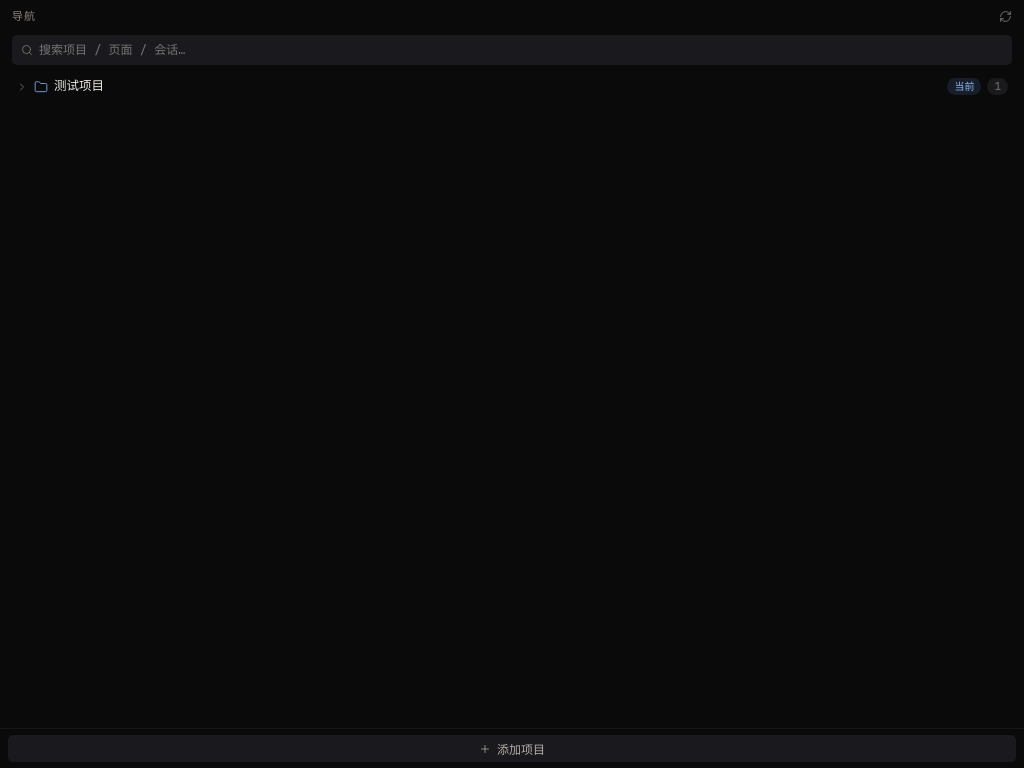
Test: 活跃会话行构成 › usage 缺省 → 百分比显示不可用态 '--'
Click the element with test id "nav-row-project" at (79,86), box [8, 72, 1016, 100]
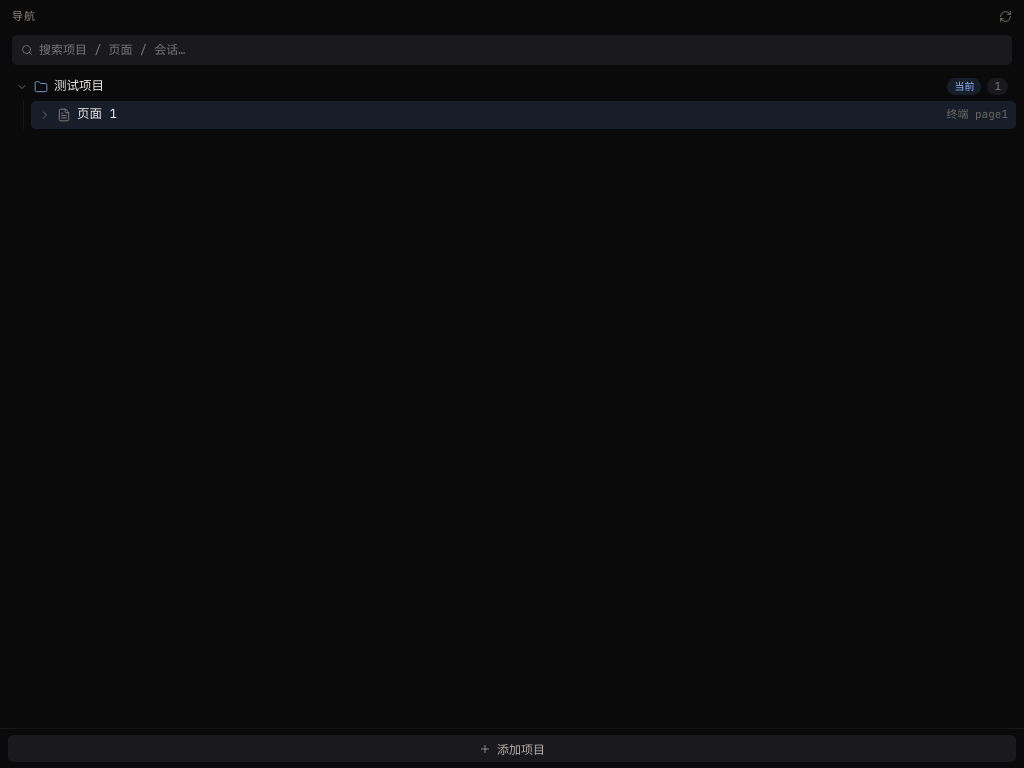
Click the element with test id "nav-row-page" at (524,114), box [31, 100, 1016, 128]
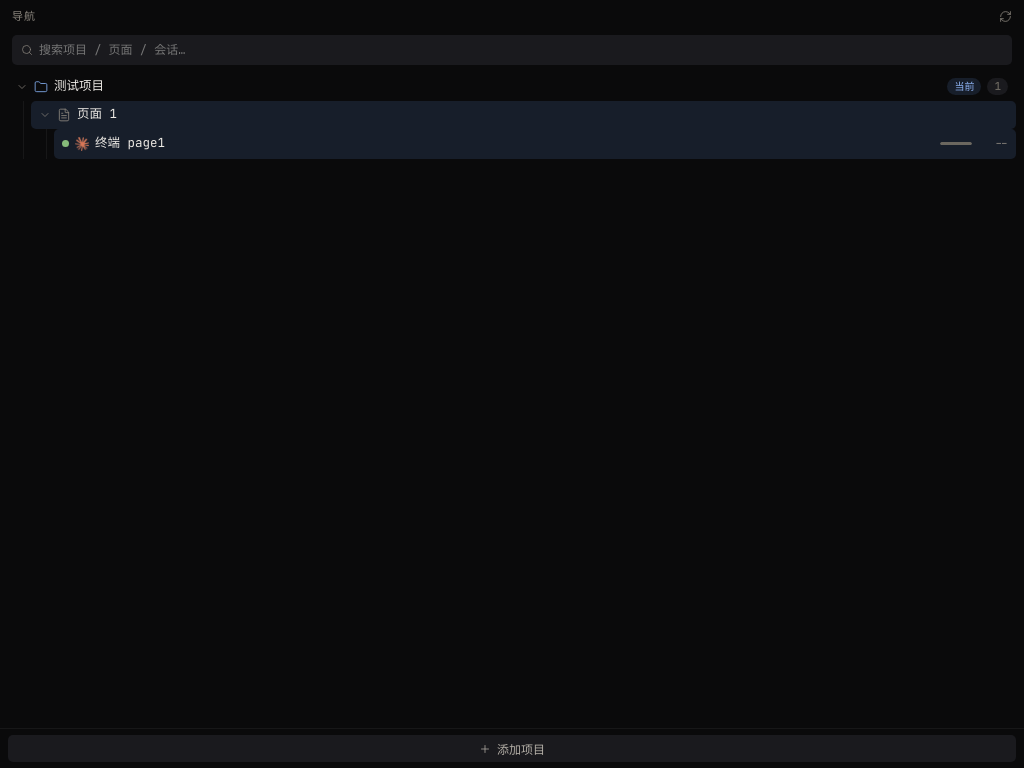
Result: the element with test id "nav-row-session" shows "--" at [995, 136, 1008, 150]
